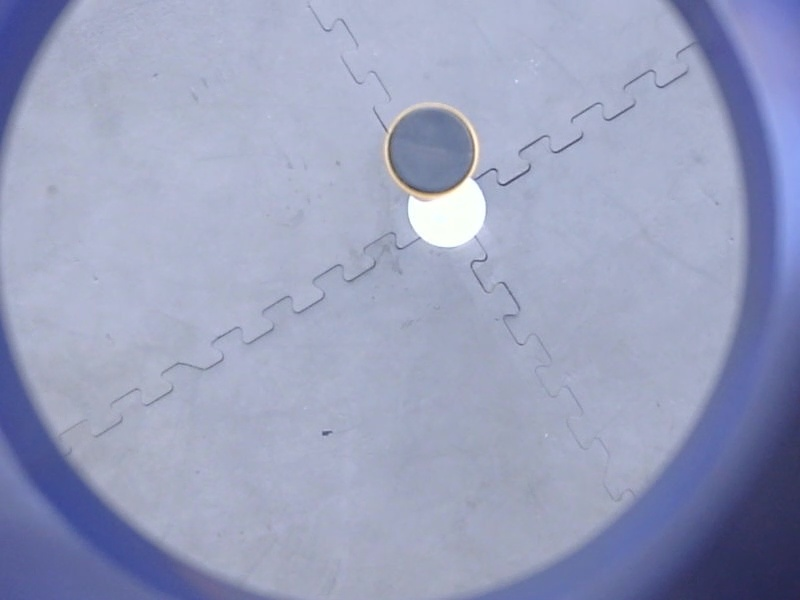tip: (375, 94, 486, 205)
